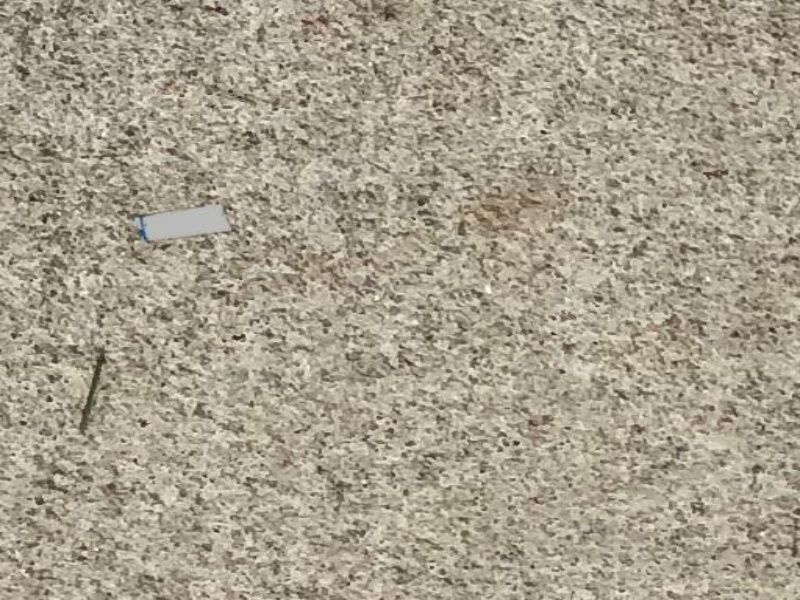cig: (131, 201, 239, 245)
